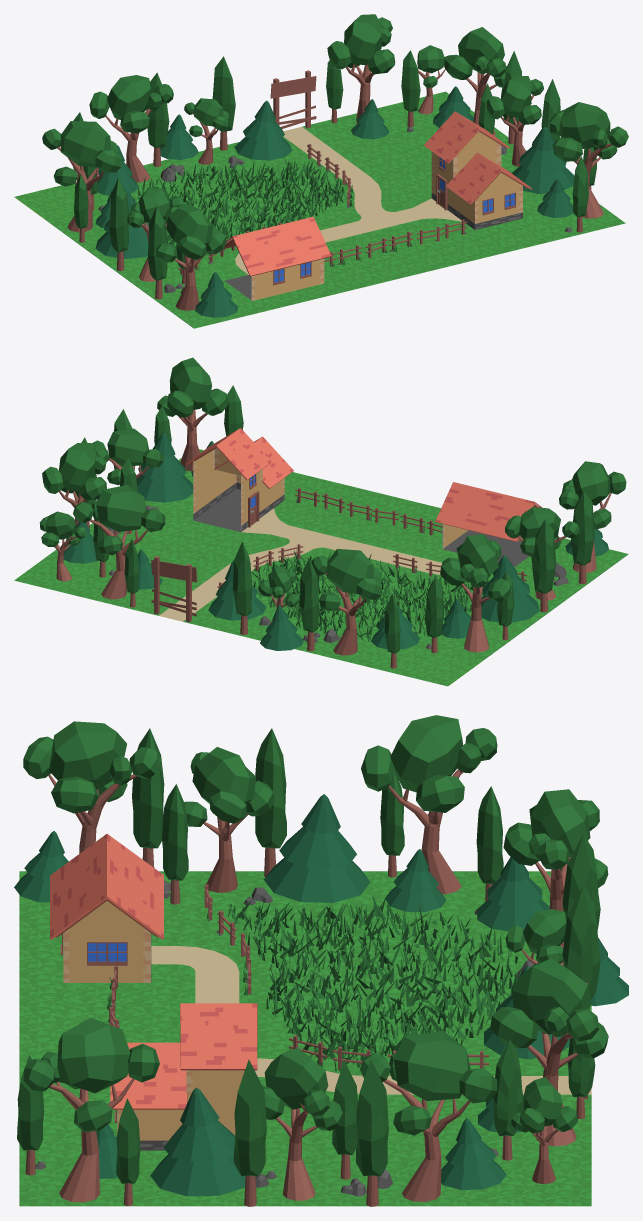
The model's file is Zone1Export.glb.
3 views of the same model, one above another, from view 1: azimuth 30°, elevation 25°; view 2: azimuth 150°, elevation 25°; view 3: azimuth 270°, elevation 25° (orthographic). The views are drawn at different scales.
Parts seen in each view (by area): view 1: ground, TreeLineBack, TreeLineRight, TreeLineLeft, house2, grassField, house1, gate, great fence; view 2: ground, TreeLineBack, TreeLineLeft, TreeLineRight, house2, grassField, house1, gate, great fence; view 3: ground, TreeLineRight, TreeLineLeft, TreeLineBack, grassField, house1, house2, fence.001.
Part boxes in pixels (x1,y1,x2,y2): ground: [14, 91, 625, 328]; TreeLineBack: [73, 14, 450, 195]; TreeLineRight: [433, 27, 628, 232]; TreeLineLeft: [42, 121, 238, 317]; house2: [424, 111, 531, 229]; grassField: [134, 158, 346, 260]; house1: [223, 216, 331, 300]; gate: [270, 70, 316, 128]; great fence: [324, 219, 467, 266]; ground: [14, 449, 628, 686]; TreeLineBack: [39, 485, 420, 668]; TreeLineLeft: [425, 461, 626, 653]; TreeLineRight: [42, 357, 243, 563]; house2: [185, 428, 293, 531]; grassField: [251, 550, 485, 642]; house1: [435, 482, 542, 548]; gate: [151, 556, 197, 622]; great fence: [295, 487, 442, 535]; ground: [19, 871, 591, 1206]; TreeLineRight: [17, 1017, 506, 1206]; TreeLineLeft: [14, 715, 503, 914]; TreeLineBack: [477, 789, 628, 1184]; grassField: [228, 895, 521, 1067]; house1: [50, 834, 163, 982]; house2: [110, 1003, 257, 1150]; fence.001: [289, 1035, 371, 1071].
Bounding box in the file's own units: 34.16 × 7.81 × 25.19.
Materials: 14 (3 with a texture image).
